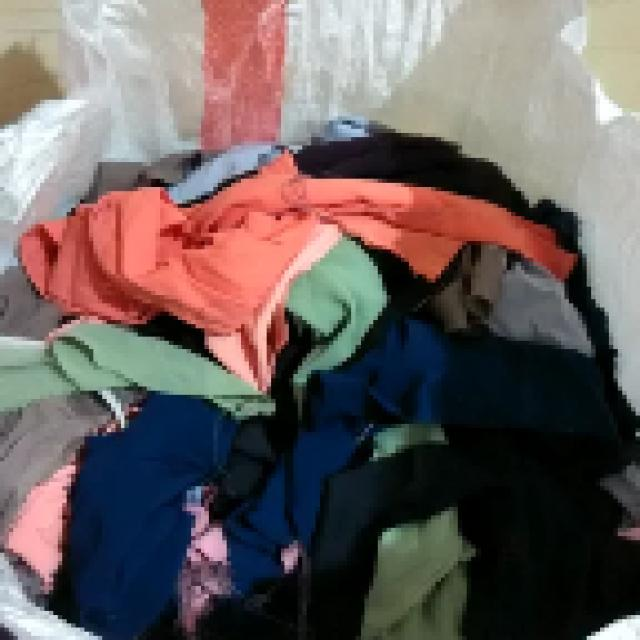Anorganik: (49, 150, 640, 636)
